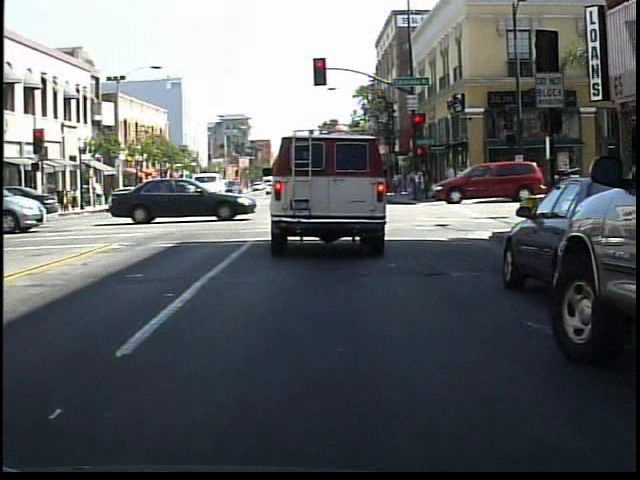person: (485, 161, 506, 200)
